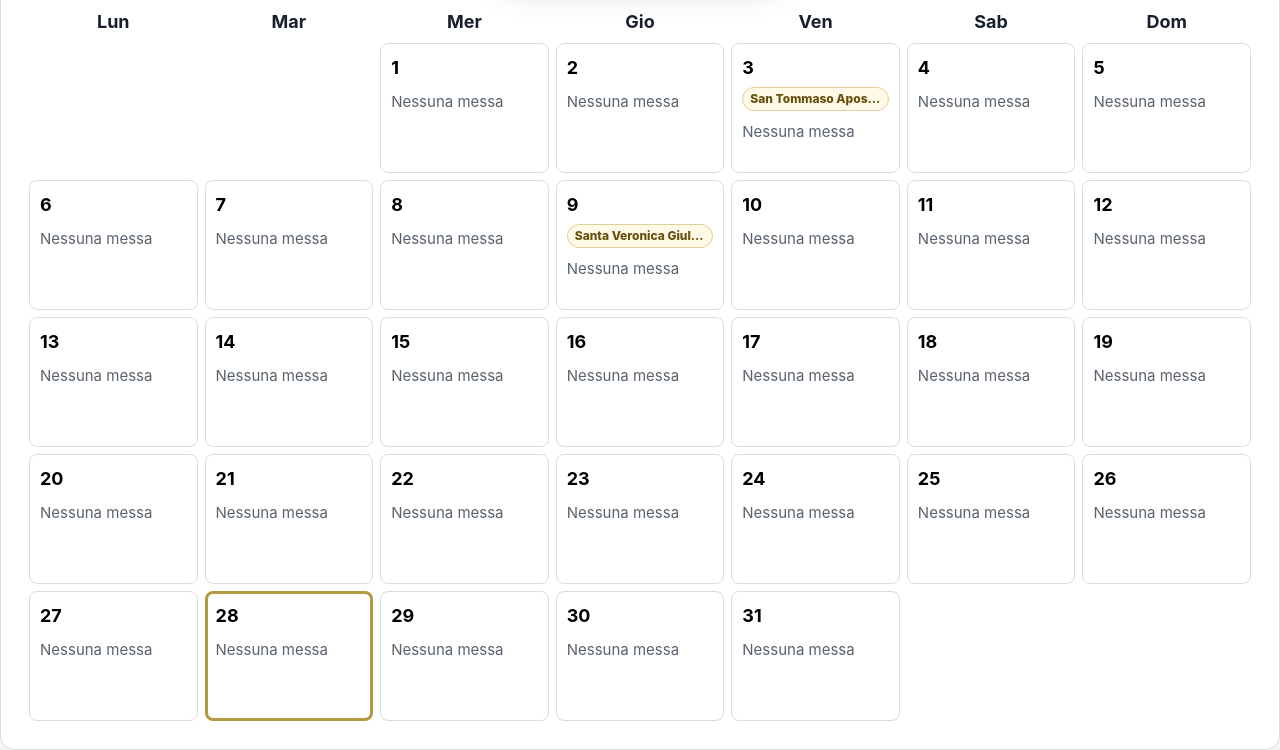
Test case: dettaglio giornata › mostra le fasce orarie e permette di modificare un'intenzione
This screenshot has width=1280, height=750.
(page scrolled)
Click the button "28 Nessuna messa": click(289, 656) [205, 591, 373, 721]
(page scrolled)
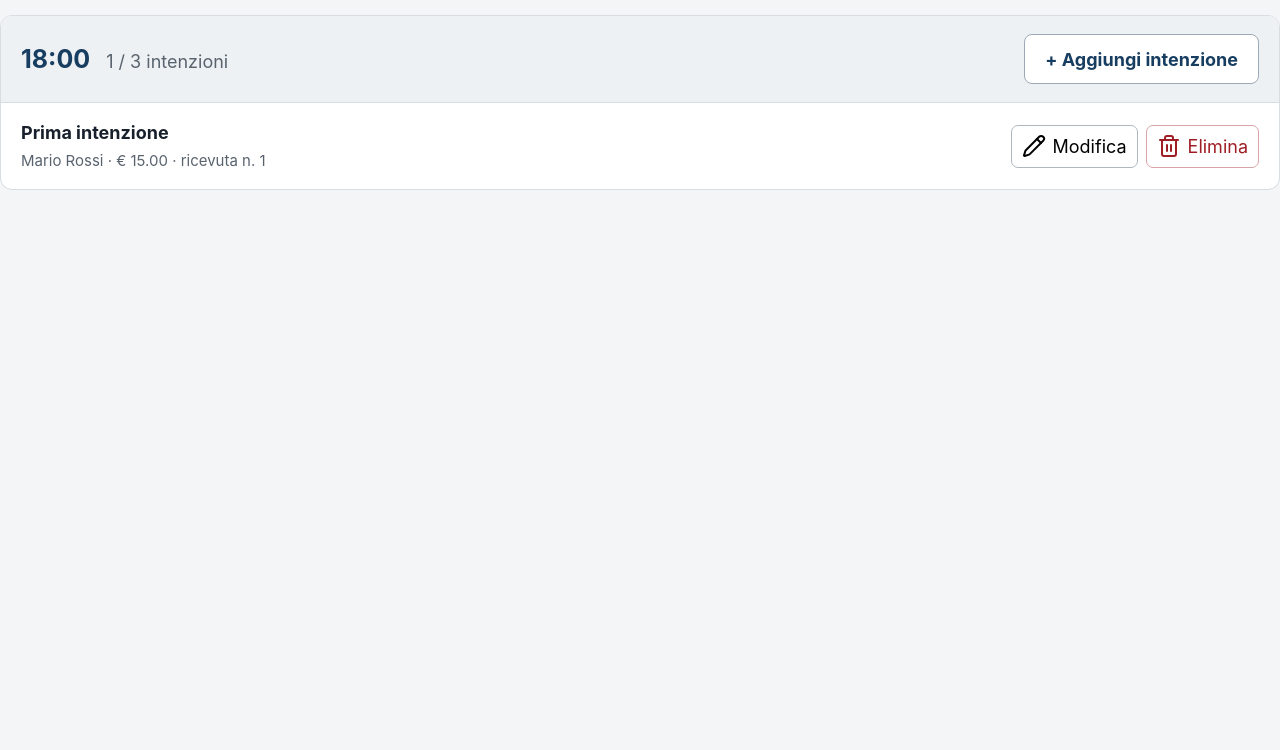
expect the text "1 / 3 intenzioni" is shown: met, box [106, 48, 228, 75]
Click the button "Modifica": click(1074, 146) [1010, 125, 1138, 168]
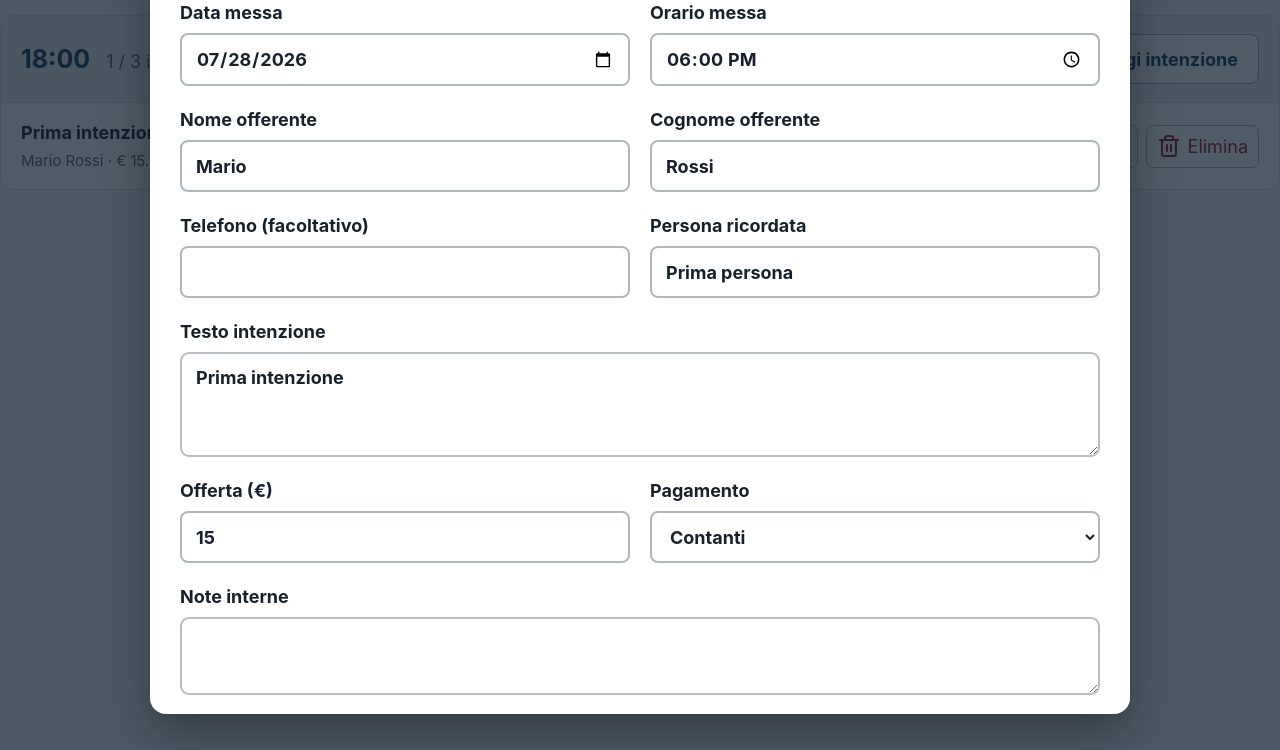
Replace the text in the text box labelled "Testo intenzione" with "Intenzione corretta": (640, 404) [180, 352, 1100, 457]
(page scrolled)
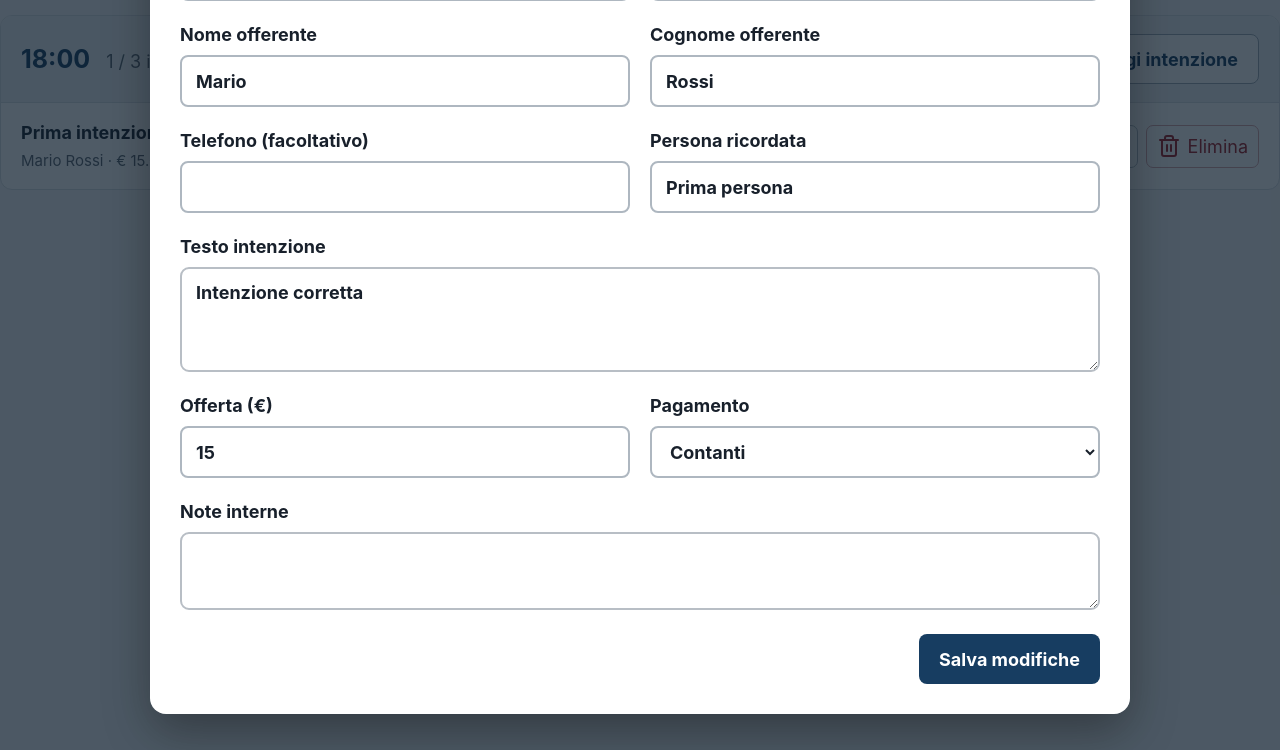
Click the button "Salva modifiche": click(1010, 659) [919, 634, 1100, 684]
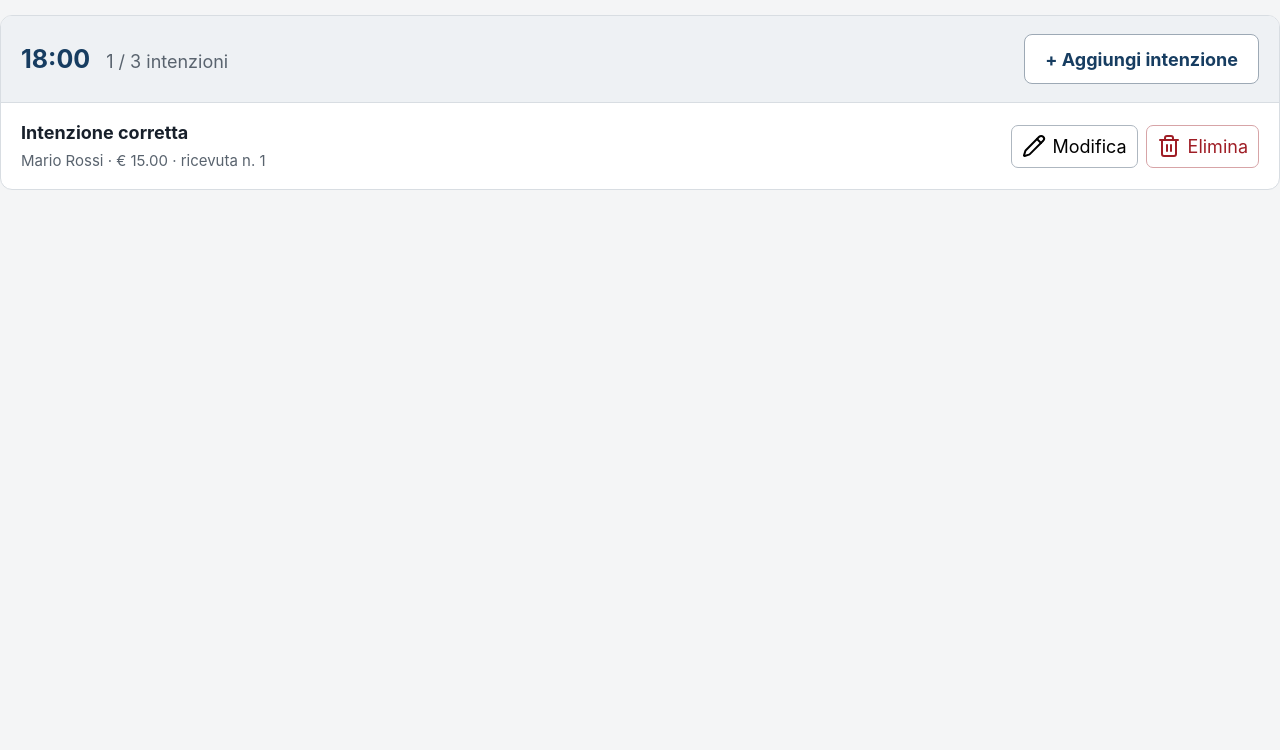
expect the text "Intenzione corretta" is shown: met, box [21, 122, 188, 143]
